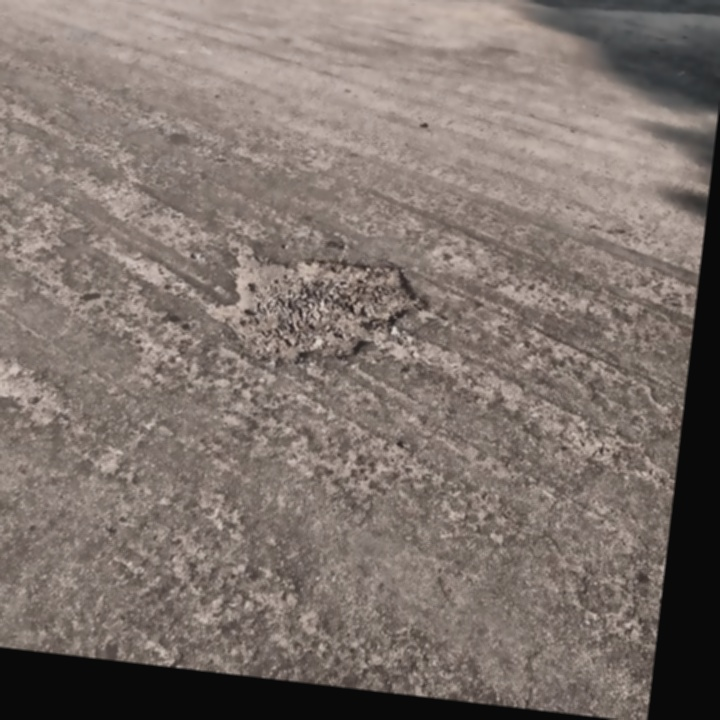pothole: (200, 235, 437, 382)
